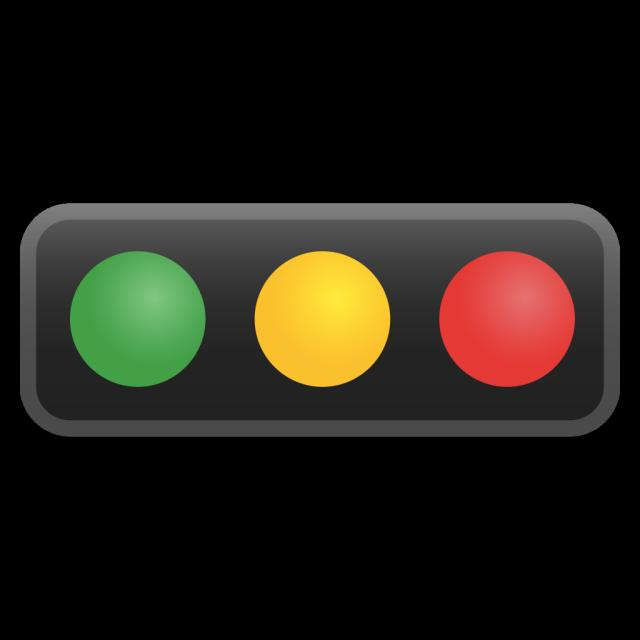green-lights: (64, 236, 216, 372)
red-lights: (436, 271, 575, 414)
yellow-lights: (250, 252, 394, 403)
